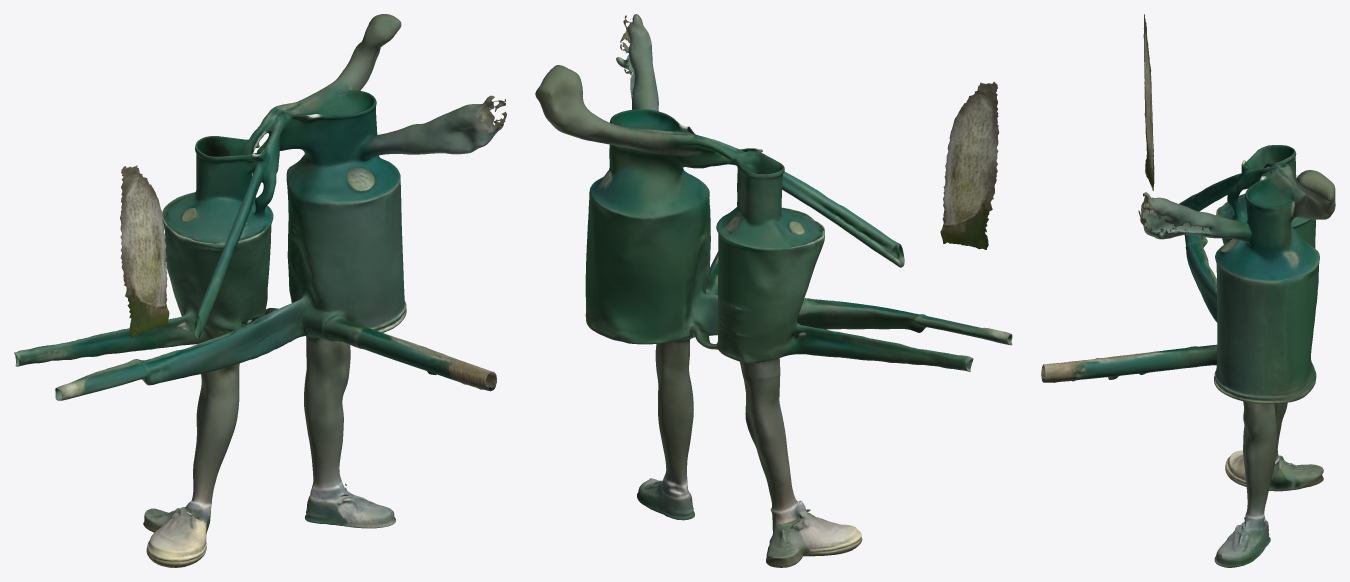
The model's file is haws.glb.
3 views of the same model, side by side, from view 1: azimuth 30°, elevation 25°; view 2: azimuth 150°, elevation 25°; view 3: azimuth 270°, elevation 25° (orthographic). The views are drawn at different scales.
Visible parts, largest first — view 1: geometry_0; view 2: geometry_0; view 3: geometry_0.
Boxes of the visible parts, box(x1,y1,x2,y2) form: geometry_0: box(14, 14, 506, 567); geometry_0: box(535, 14, 1012, 567); geometry_0: box(1041, 14, 1335, 567).
Size of the model in its own units: 0.9507 by 0.9924 by 0.634.
1 material, 1 textured.
